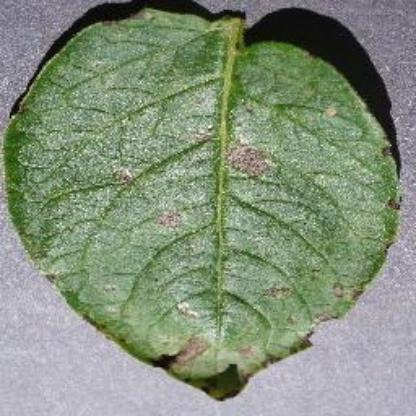Early-Blight: (4, 0, 412, 402)
